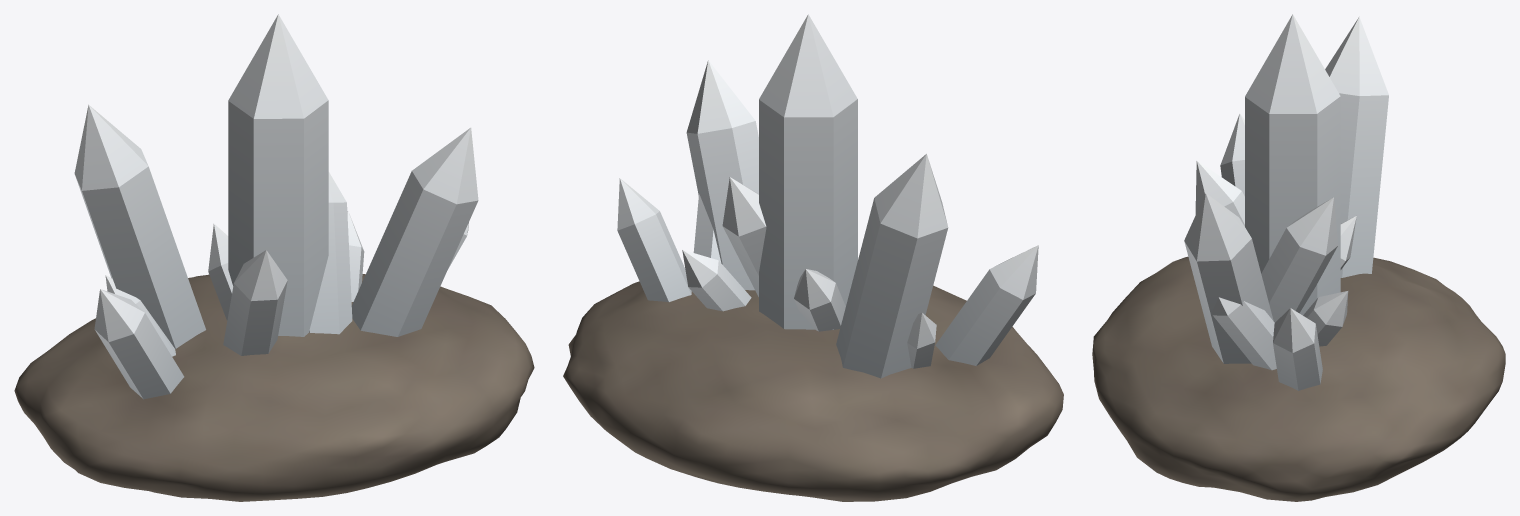
File: quartz-cluster.glb
The picture shows the model from 3 angles, left to right: view 1: azimuth 30°, elevation 25°; view 2: azimuth 150°, elevation 25°; view 3: azimuth 270°, elevation 25°; orthographic projection. The views are drawn at different scales.
Visible parts, largest first — view 1: matrix, quartz; view 2: matrix, quartz; view 3: matrix, quartz.
Part boxes in pixels (box(x1,y1,x2,y2)): matrix: box(14, 274, 534, 501); quartz: box(74, 14, 478, 399); matrix: box(563, 281, 1063, 501); quartz: box(617, 14, 1038, 378); matrix: box(1092, 256, 1505, 501); quartz: box(1184, 14, 1388, 390).
Bounding box in the file's own units: 1.14 × 1.07 × 0.949.
